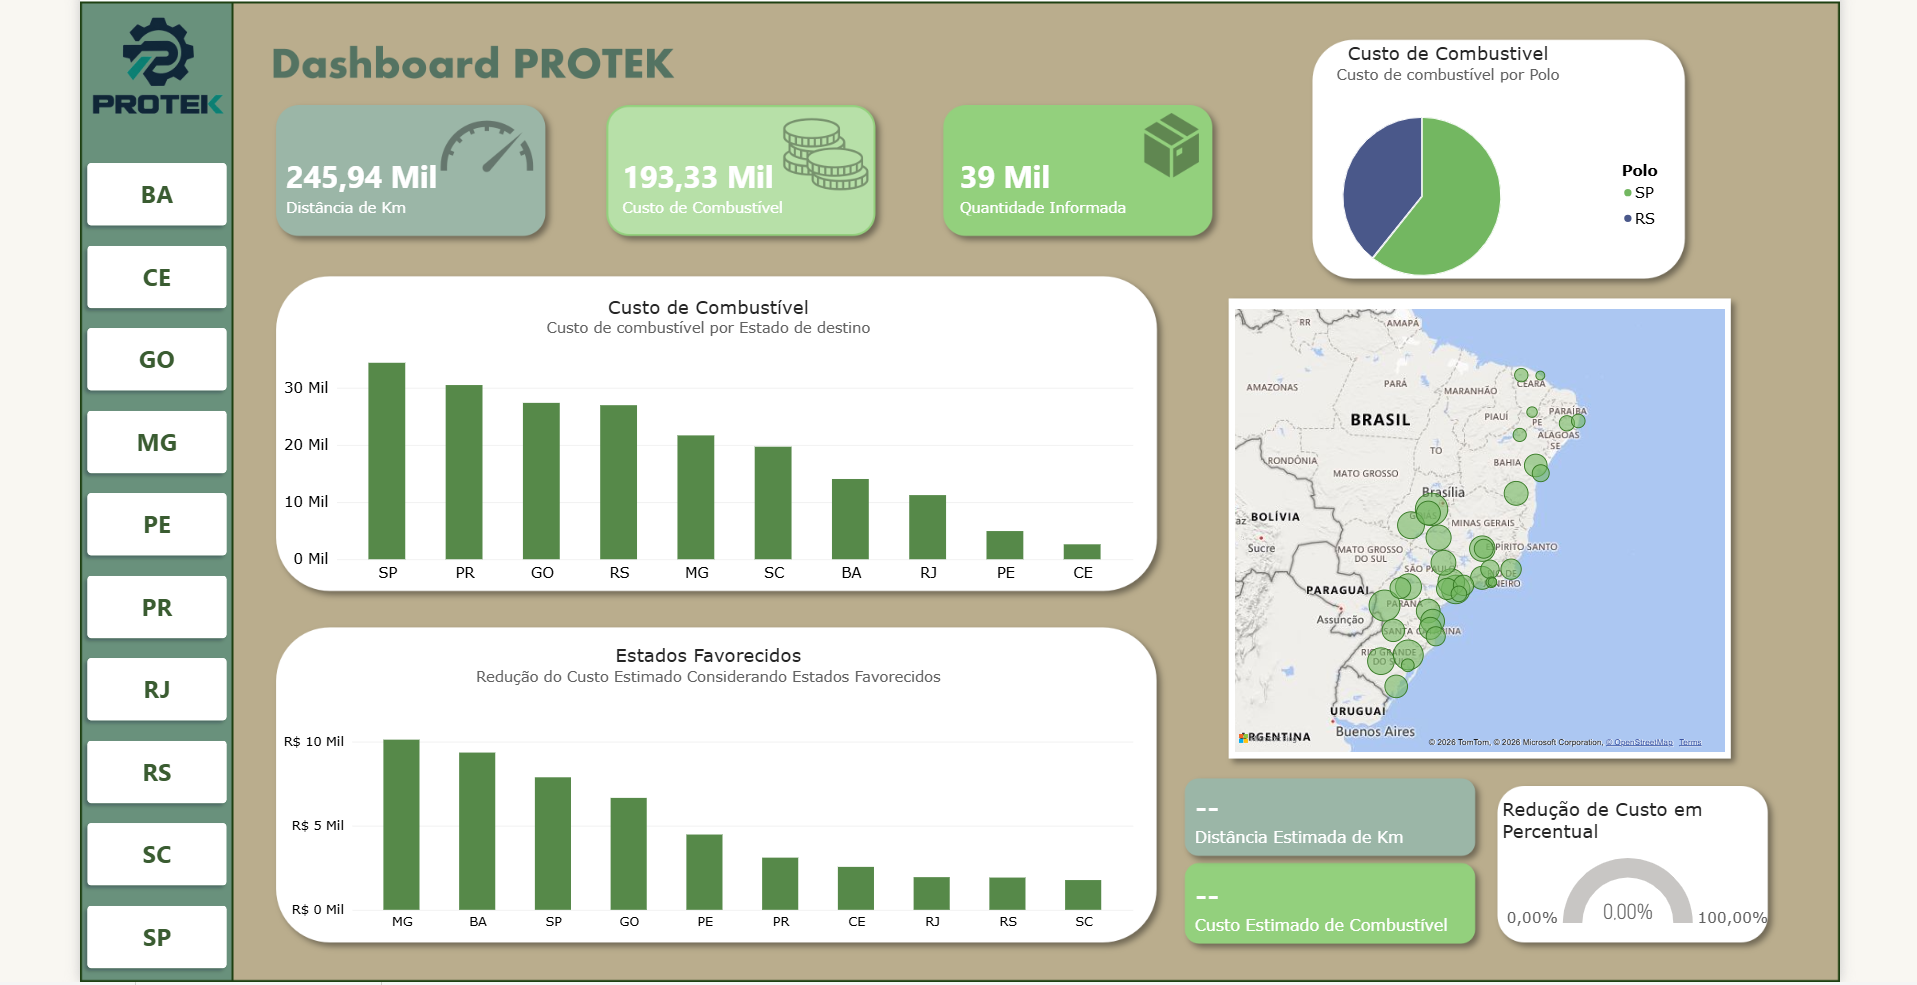

This screenshot's page, from the dashboard's own definition file:
{"tool":"powerbi","page":{"name":"Página 1","canvas":[1920,1080],"ordinal":0},"visuals":[{"type":"clusteredColumnChart","title":"Custo de Combustível","fields":{"Category":["Página1 (2).Estado_Destino"],"Y":["Sum(Página1 (2).Custo_Combustivel)"]},"box":[206.3,316.7,959.1,347.5],"z":0},{"type":"map","fields":{"Category":["Página1 (2).Cidade_Destino"],"Size":["Sum(Página1 (2).Custo_Combustivel)"]},"box":[1243.2,331.2,566.4,513.9],"z":1000},{"type":"pieChart","title":"Custo de Combustivel","fields":{"Category":["Página1 (2).Polo"],"Y":["Sum(Página1 (2).Custo_Combustivel)"]},"box":[1230.6,39.8,524.8,307.6],"z":2000},{"type":"advancedSlicerVisual","fields":{"Values":["Página1 (2).Estado_Destino"]},"box":[0,179.2,168.3,901.2],"z":3000},{"type":"cardVisual","fields":{"Data":["Sum(Página1 (2).Distancia_km)"]},"box":[208,144,293.2,135.7],"z":4000},{"type":"cardVisual","fields":{"Data":["Sum(Página1 (2).Custo_Combustivel)"]},"box":[576,144,293.2,135.7],"z":5000},{"type":"cardVisual","fields":{"Data":["Pagina.Quantidade Informada"]},"box":[944,144,293.2,135.7],"z":6000},{"type":"clusteredColumnChart","title":"Estados Favorecidos","fields":{"Category":["Distancias_Candidatos.UF_Destino"],"Y":["Sum(Distancias_Candidatos.Custo_Gasolina)"]},"box":[206.3,696.7,959.1,347.5],"z":7000},{"type":"gauge","title":"Redução de Custo em Percentual","fields":{"Y":["Distancias_Candidatos.Reducao Percentual"]},"box":[1536,864,327.5,173.7],"z":8000},{"type":"cardVisual","fields":{"Data":["Distancias_Candidatos.Custo Gasolina por Polo"]},"box":[1200,928,345.6,135.7],"z":9000},{"type":"cardVisual","fields":{"Data":["Distancias_Candidatos.Estimativa Distancia"]},"box":[1200,832,293.2,135.7],"z":9001}]}

Visuals, with their boxes in screenshot pixels (x1, y1, x2, y2):
"Custo de Combustível" clusteredColumnChart: 267 260 1160 583
map - Página1 (2).Cidade_Destino x Sum(Página1 (2).Custo_Combustivel): 1232 273 1760 752
"Custo de Combustivel" pieChart: 1221 2 1709 288
advancedSlicerVisual - Página1 (2).Estado_Destino: 75 132 232 971
cardVisual - Sum(Página1 (2).Distancia_km): 269 99 542 225
cardVisual - Sum(Página1 (2).Custo_Combustivel): 611 99 884 225
cardVisual - Pagina.Quantidade Informada: 954 99 1227 225
"Estados Favorecidos" clusteredColumnChart: 267 614 1160 937
"Redução de Custo em Percentual" gauge: 1505 769 1810 931
cardVisual - Distancias_Candidatos.Custo Gasolina por Polo: 1192 829 1514 955
cardVisual - Distancias_Candidatos.Estimativa Distancia: 1192 740 1465 866
